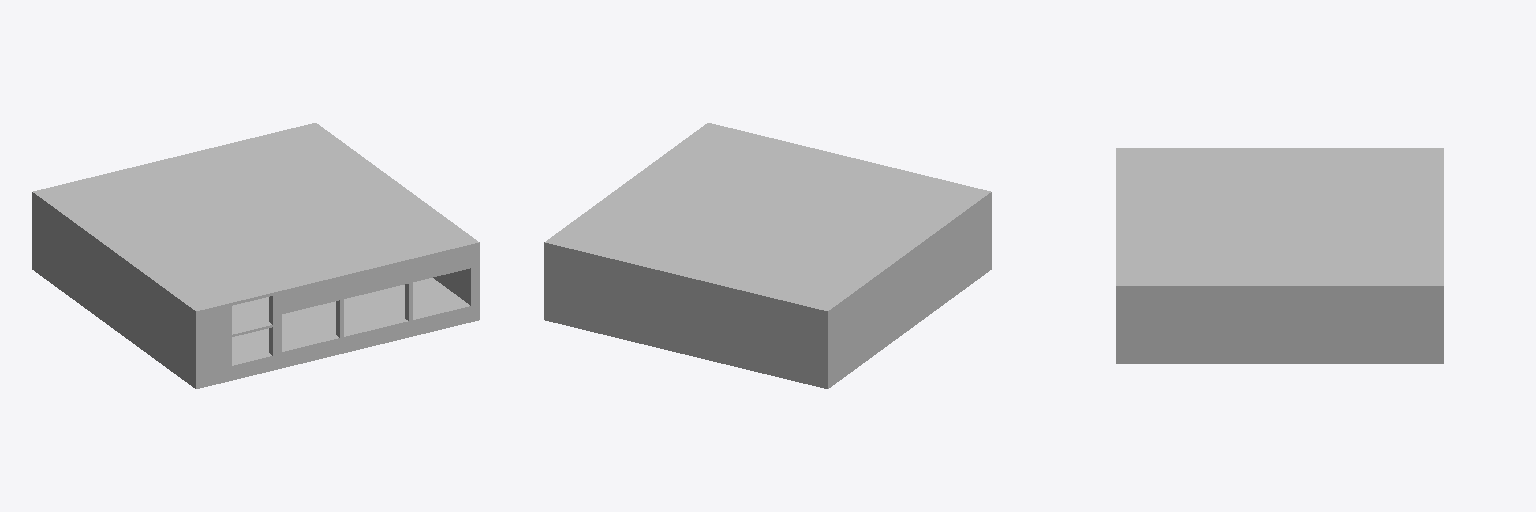
File: shopLayout.obj
The picture shows the model from 3 angles: view 1: azimuth 30°, elevation 25°; view 2: azimuth 150°, elevation 25°; view 3: azimuth 270°, elevation 25°; orthographic projection.
Parts seen in each view (by area): view 1: pCube1; view 2: pCube1; view 3: pCube1.
Boxes of the visible parts, x1,y1,x2,y2 form: pCube1: [32, 123, 479, 388]; pCube1: [544, 123, 991, 388]; pCube1: [1116, 148, 1443, 363].
Size of the model in its own units: 2000 by 525 by 2000.